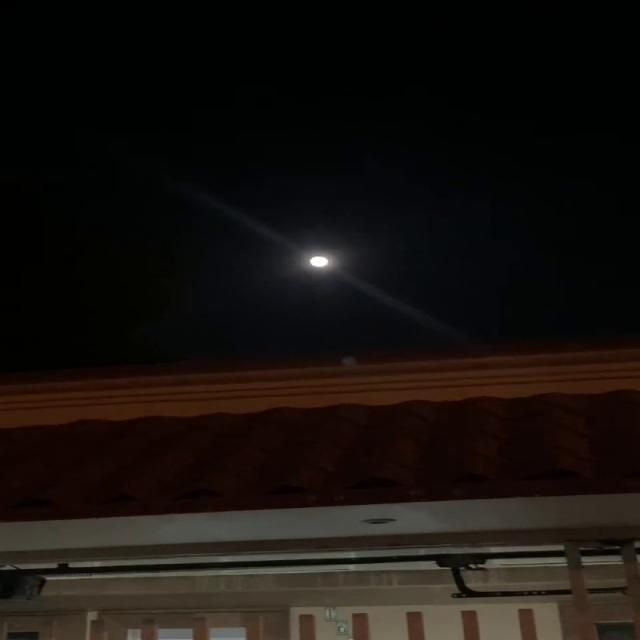moon: (302, 254, 329, 269)
